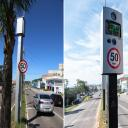speed_limit_50: (107, 47, 121, 69), (18, 59, 28, 73)
